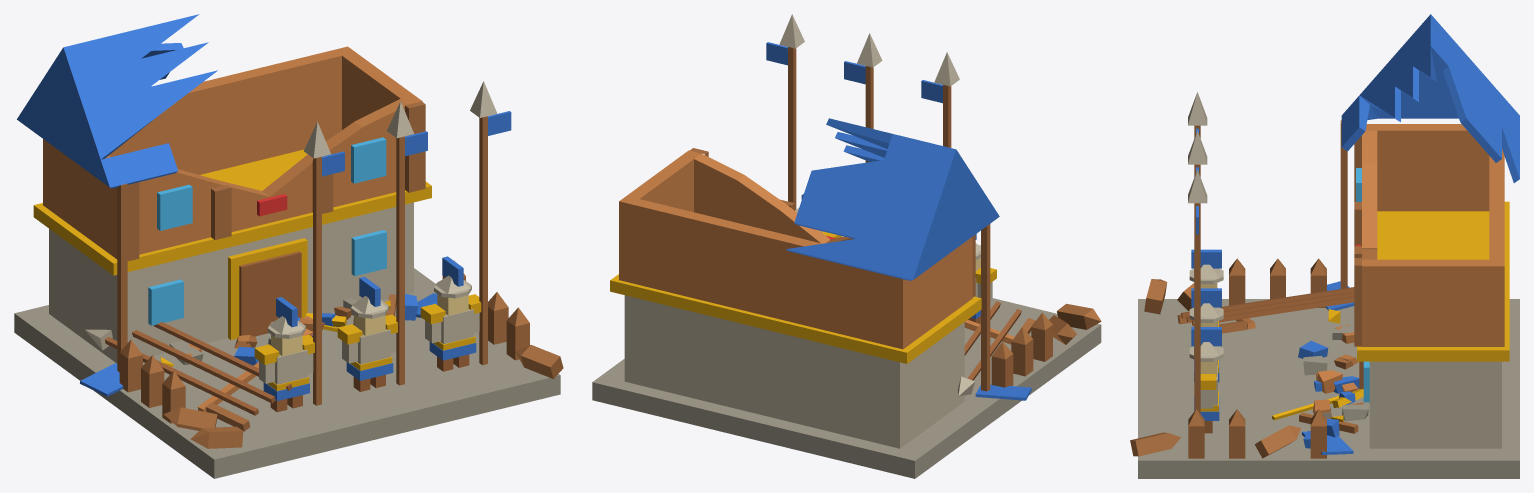
The model's file is barracks_t3_v1_dmg1.glb.
3 views of the same model, side by side, from view 1: azimuth 30°, elevation 25°; view 2: azimuth 150°, elevation 25°; view 3: azimuth 270°, elevation 25° (orthographic). The views are drawn at different scales.
Parts seen in each view (by area): view 1: barracks_t3_v1_dmg1; view 2: barracks_t3_v1_dmg1; view 3: barracks_t3_v1_dmg1.
Boxes of the visible parts, x1,y1,x2,y2 form: barracks_t3_v1_dmg1: (14, 14, 563, 478); barracks_t3_v1_dmg1: (592, 14, 1101, 478); barracks_t3_v1_dmg1: (1130, 14, 1519, 478).
Size of the model in its own units: 0.8216 by 0.66 by 0.7654.
1 material, 1 textured.
